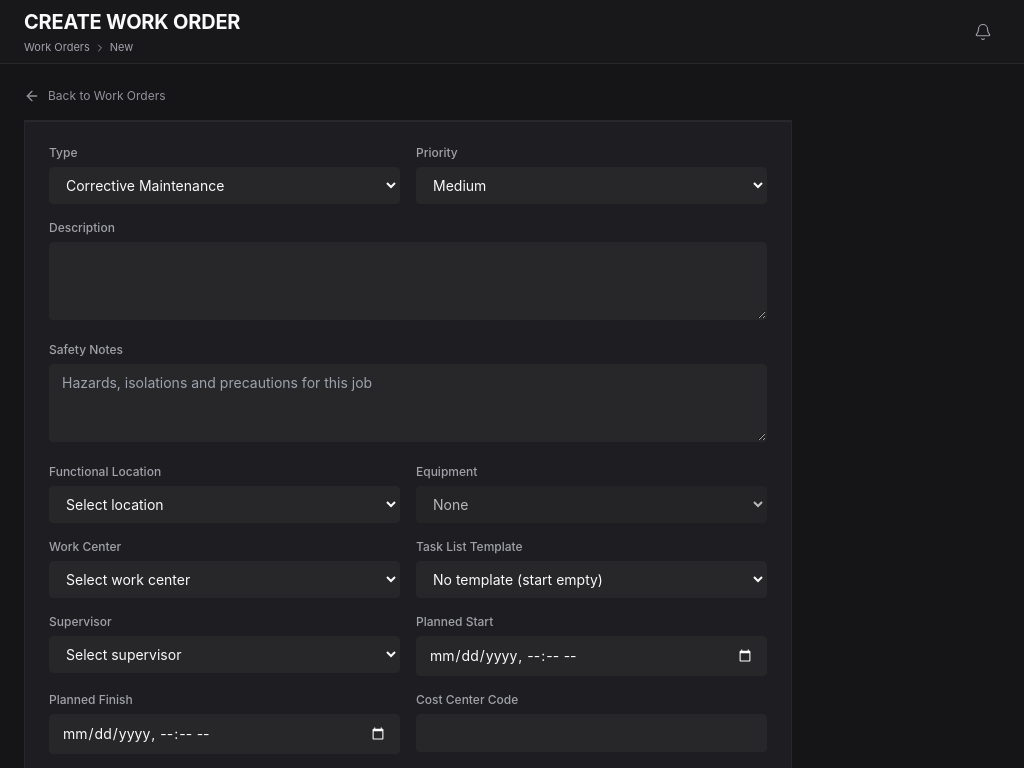
WorkOrderCreatePage template/asset warning (SOW 3.1.4) › warns when an asset-specific template is applied to a different asset, naming both
Select "FL-01" in the dropdown named "FL-01" below "Functional Location" at coordinates (224, 504), box [49, 486, 400, 523]
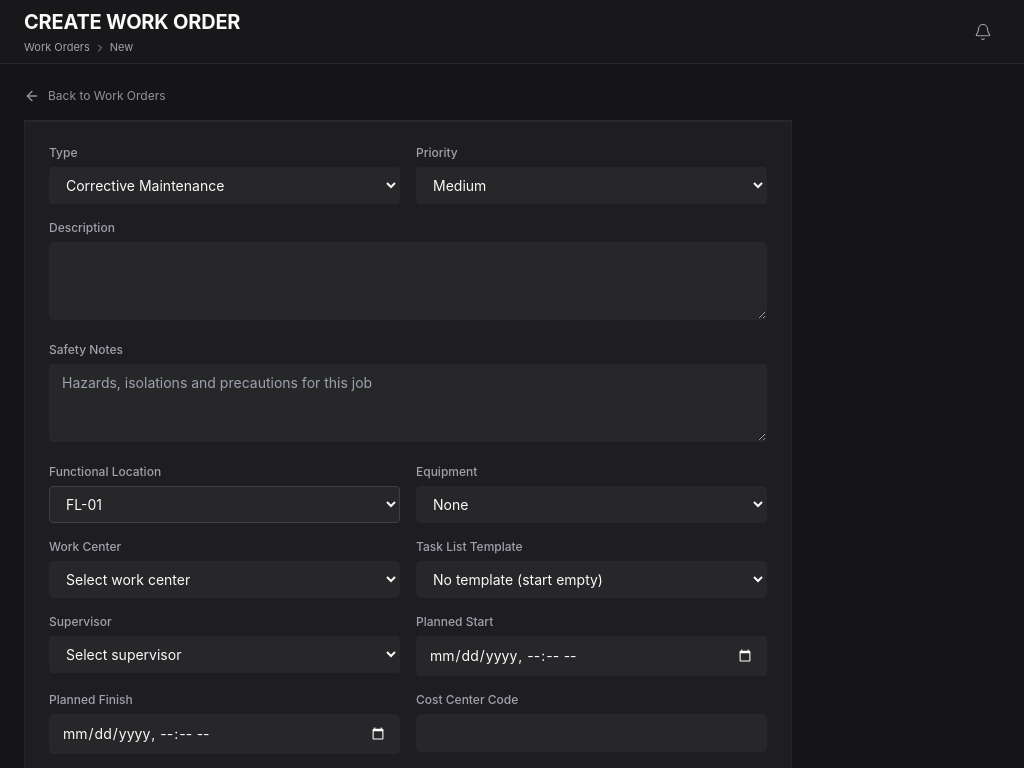
Select "PUMP-02 - Standby pump" in the dropdown named "PUMP-02 - Standby pump" below "Equipment" at coordinates (592, 504), box [416, 486, 767, 523]
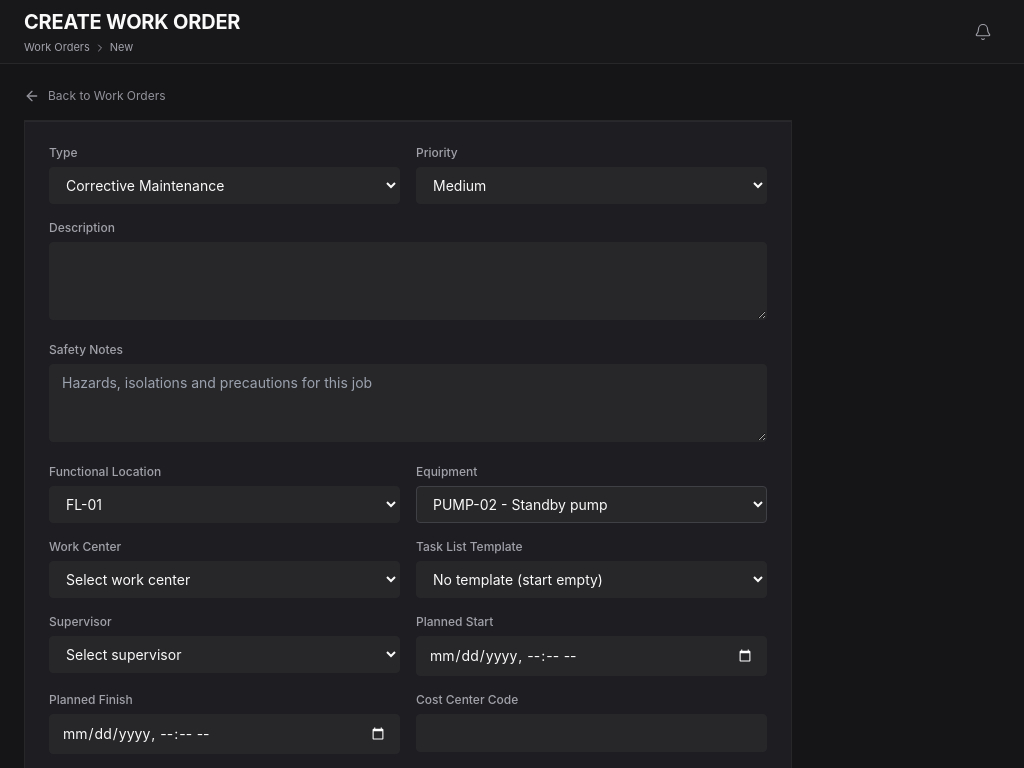
Select "TL-PUMP — Overhaul the feed pump" in the dropdown labelled "Task List Template" at coordinates (592, 580), box [416, 561, 767, 598]
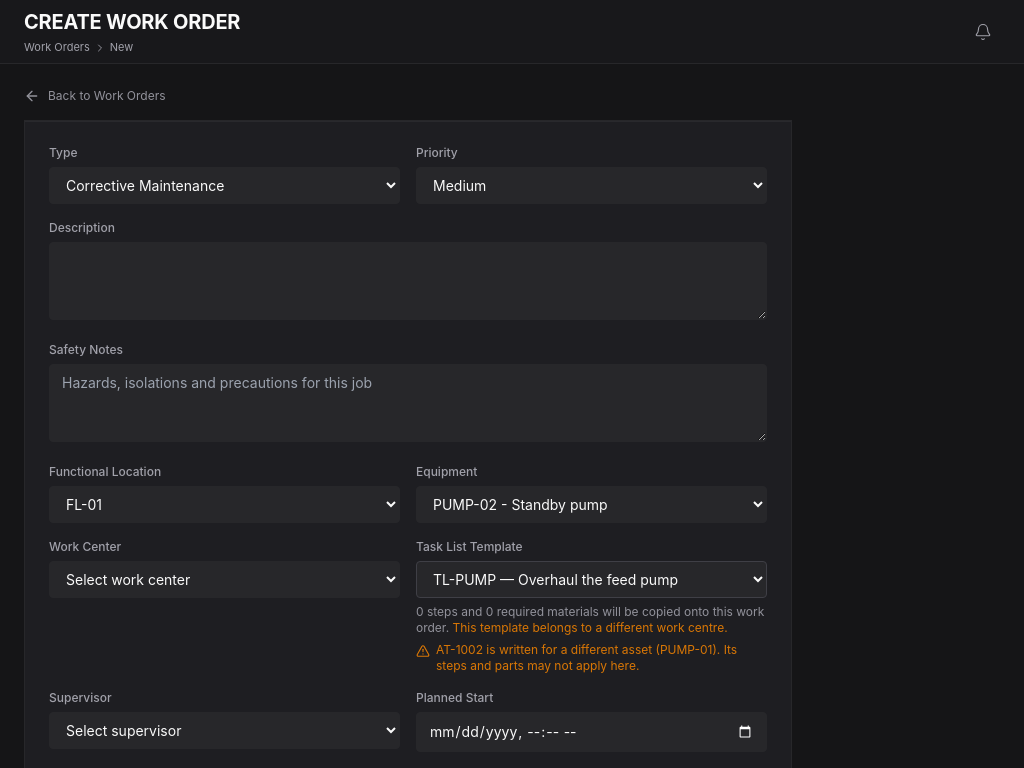
Result: the text "AT-1002 is written for a different asset (PUMP-01)" is shown at [436, 642, 767, 674]
